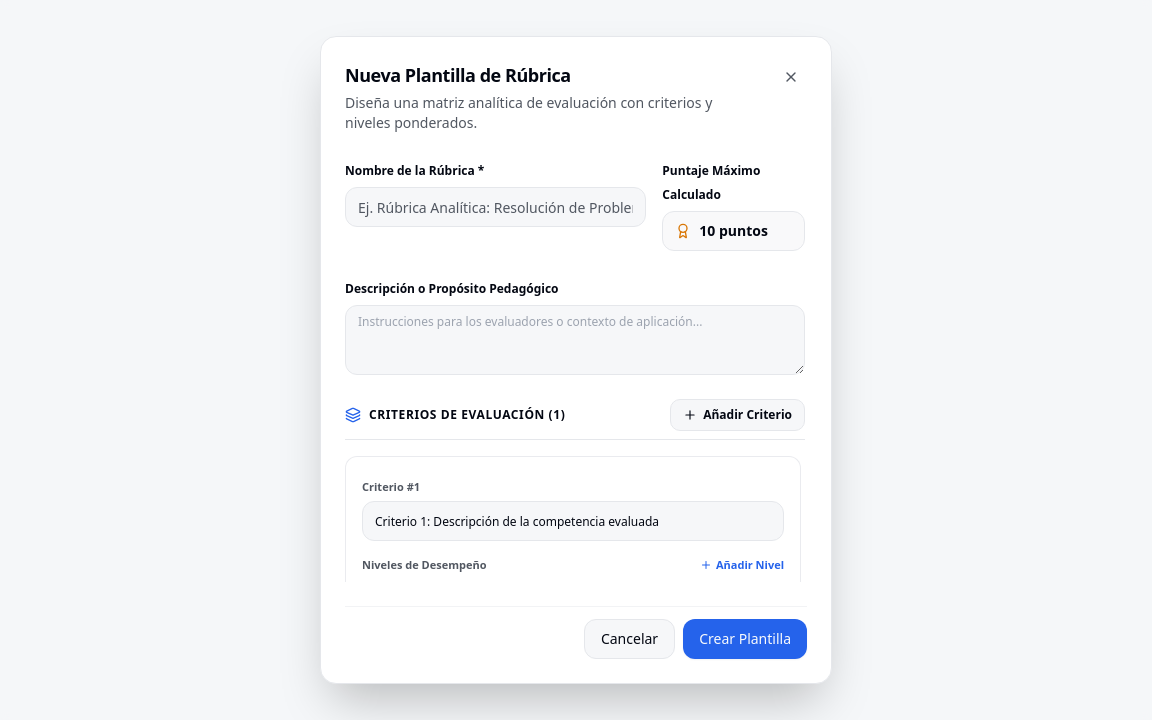
Test: RubricFormModal › validates rubric name and shows error if submitted empty
This screenshot has width=1152, height=720.
Click the button "Crear Plantilla" at (745, 639), box [683,619,807,659]
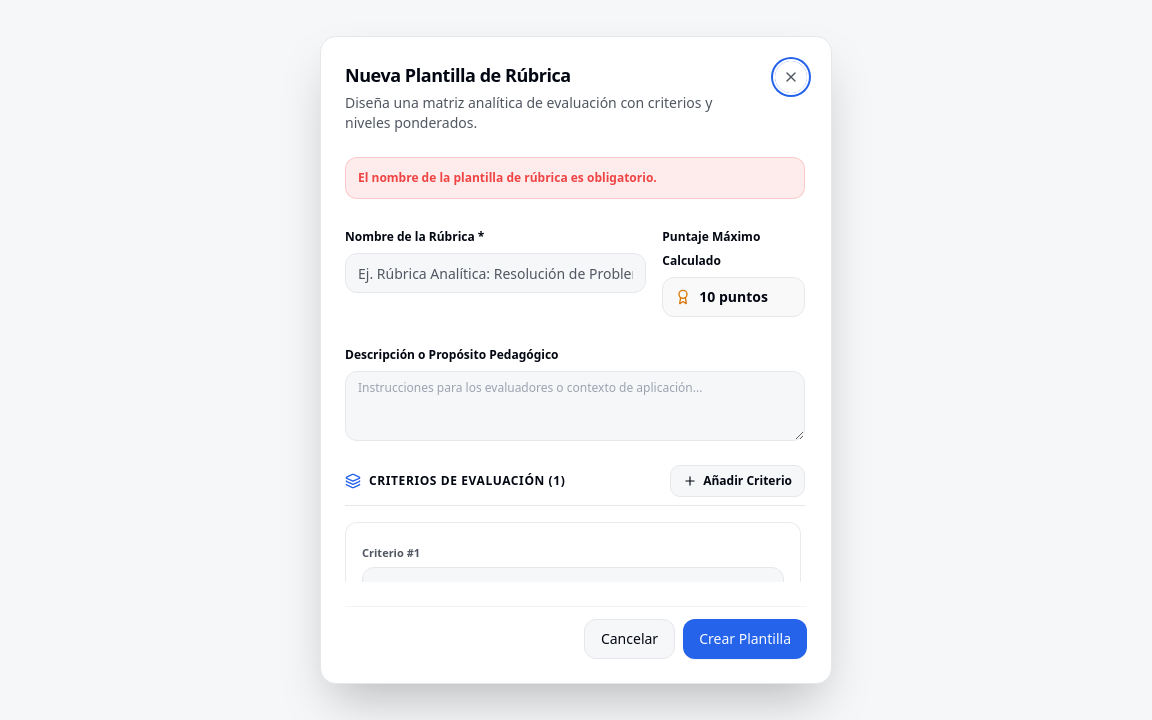
Check: the text "El nombre de la plantilla de rúbrica es obligatorio." is shown, box [345,157,805,199]
